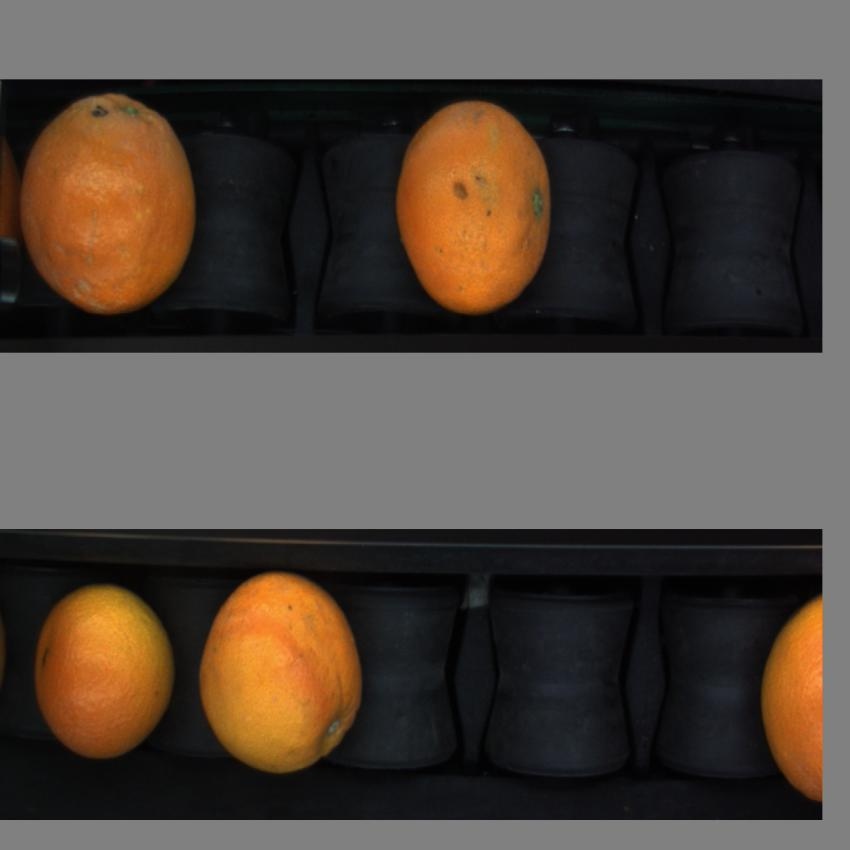Buen estado: (386, 99, 574, 327), (195, 570, 375, 784), (32, 577, 184, 765), (758, 593, 824, 809)
Mal estado: (19, 93, 203, 311)
